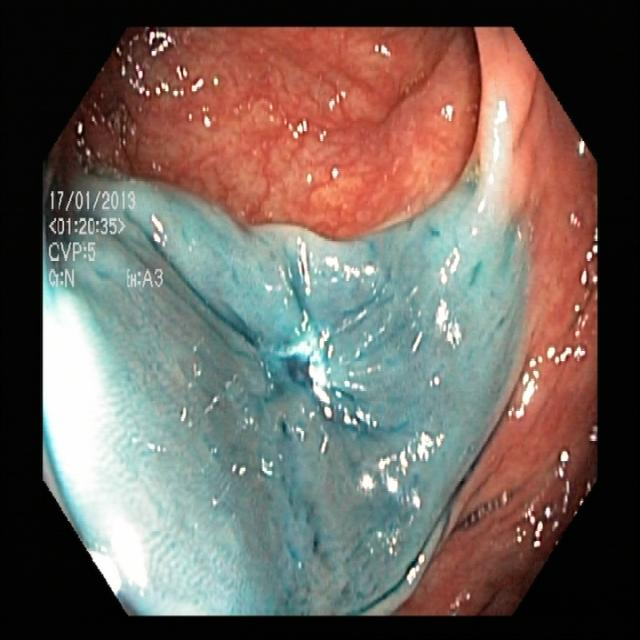dyed-resection-margins: (247, 260, 354, 422)
